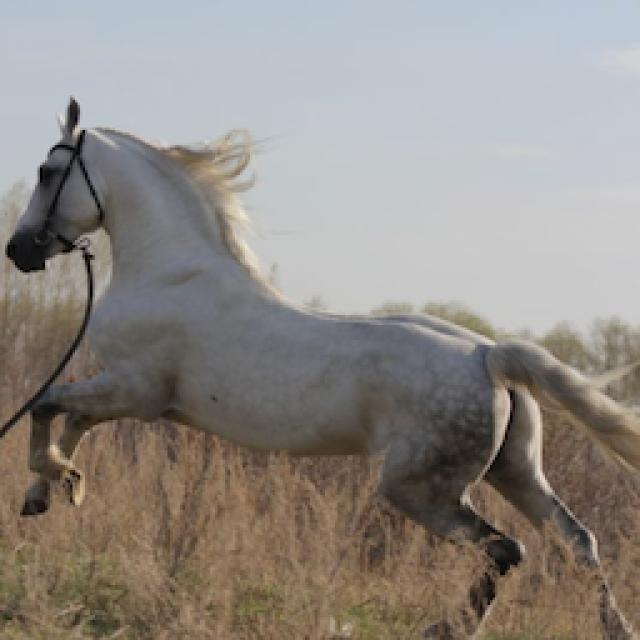Horse: (0, 92, 638, 638)
